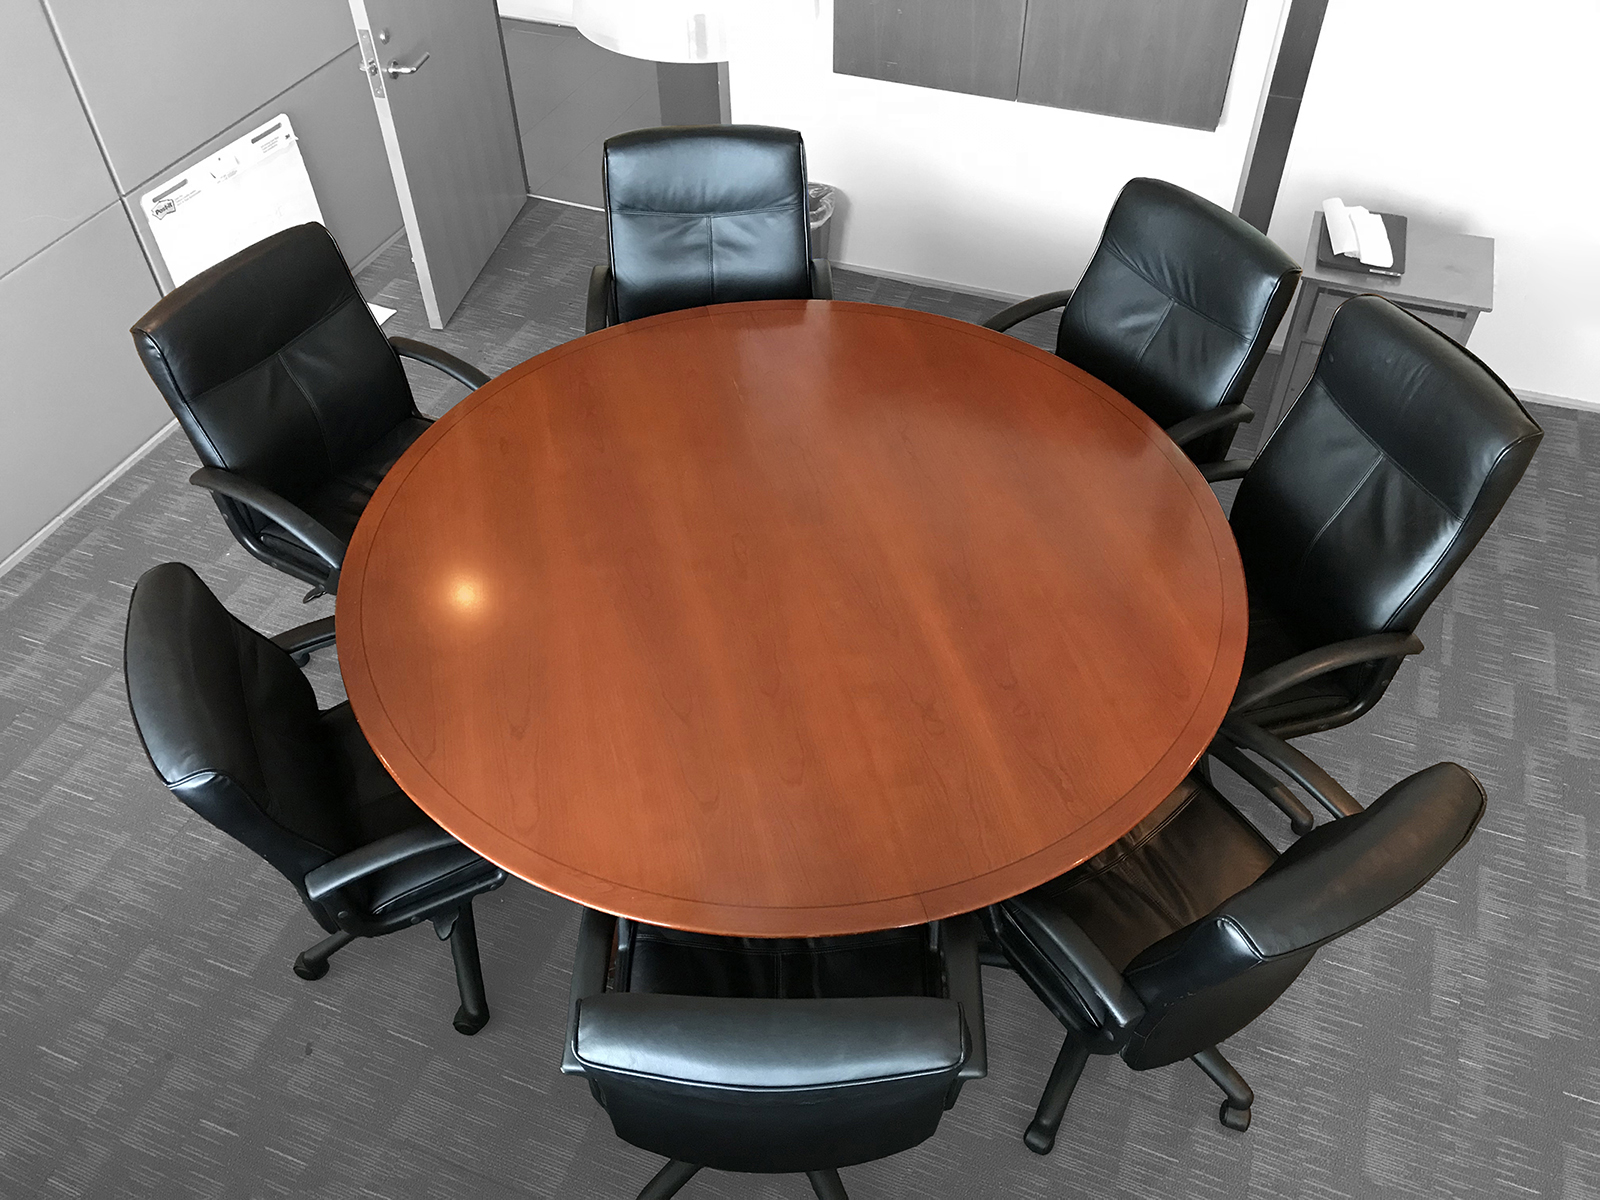conference_table: (334, 301, 1250, 940)
